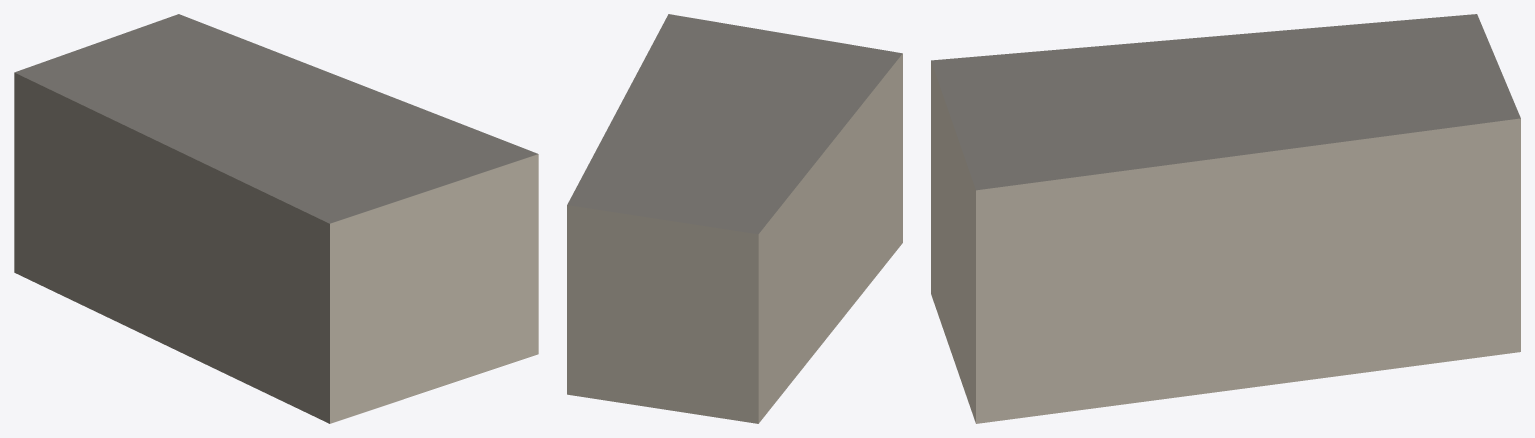
3 renders of one model, left to right at view 1: azimuth 30°, elevation 25°; view 2: azimuth 150°, elevation 25°; view 3: azimuth 270°, elevation 25°, orthographic. The views are drawn at different scales.
Visible parts, largest first — view 1: HP-w495101843; view 2: HP-w495101843; view 3: HP-w495101843.
Boxes of the visible parts, bbox=[...] form: HP-w495101843: bbox=[14, 14, 538, 423]; HP-w495101843: bbox=[567, 14, 902, 423]; HP-w495101843: bbox=[931, 14, 1520, 423].
Bounding box in the file's own units: 19.43 × 12 × 27.46.
